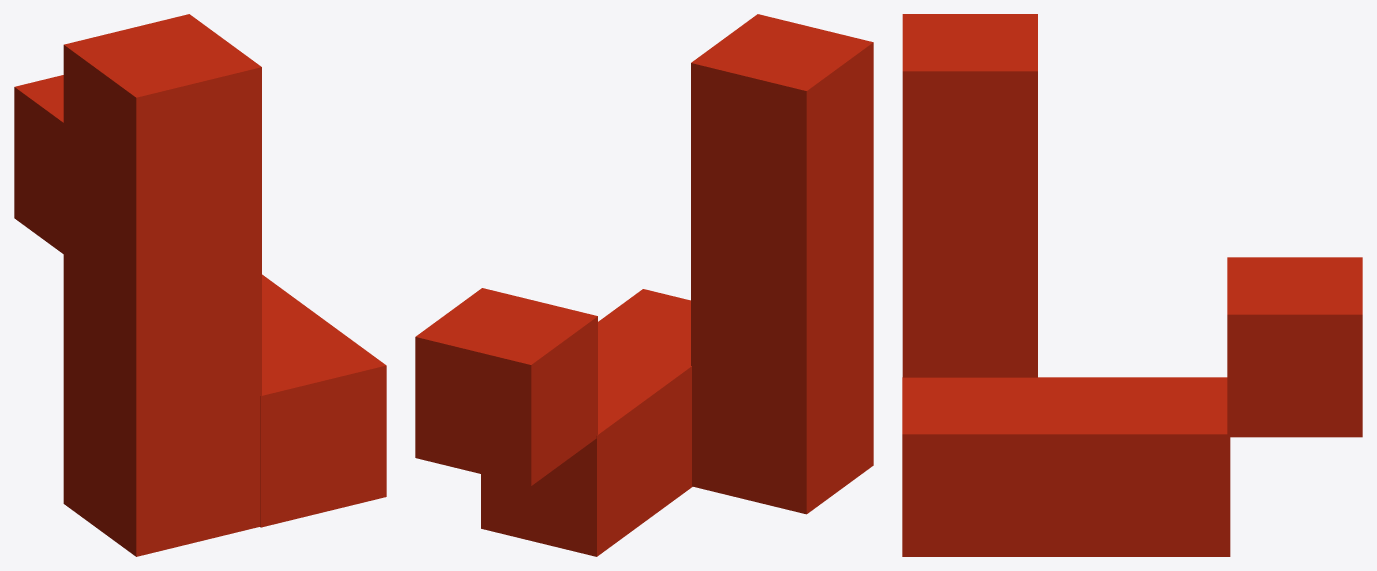
The model's file is laravel-3d.glb.
The picture shows the model from 3 angles, left to right: view 1: azimuth 30°, elevation 25°; view 2: azimuth 150°, elevation 25°; view 3: azimuth 270°, elevation 25°; orthographic projection. The views are drawn at different scales.
Parts seen in each view (by area): view 1: Cube.001; view 2: Cube.001; view 3: Cube.001.
Part boxes in pixels (x1,y1,x2,y2): Cube.001: (14,14,386,556); Cube.001: (415,14,873,556); Cube.001: (902,14,1362,556).
Bounding box in the file's own units: 0.3986 × 0.6999 × 0.6805.
